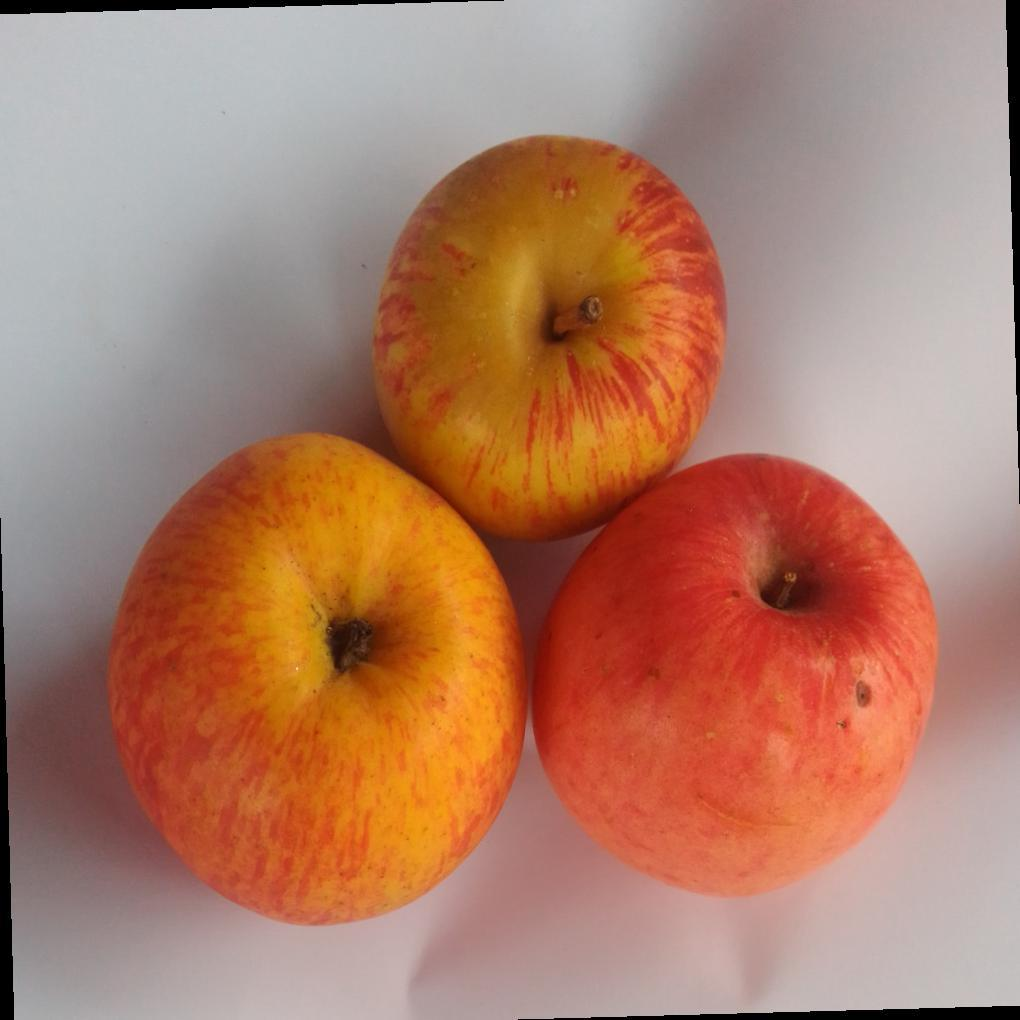FreshGuava: (104, 136, 938, 930)
